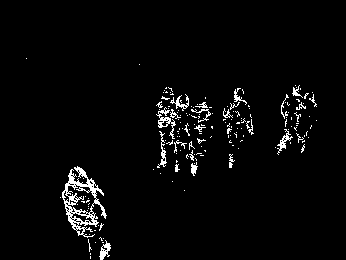person: (63, 165, 113, 260), (224, 88, 254, 168), (276, 82, 301, 156), (155, 85, 175, 168), (190, 99, 211, 176), (173, 94, 193, 172), (299, 91, 316, 154)
